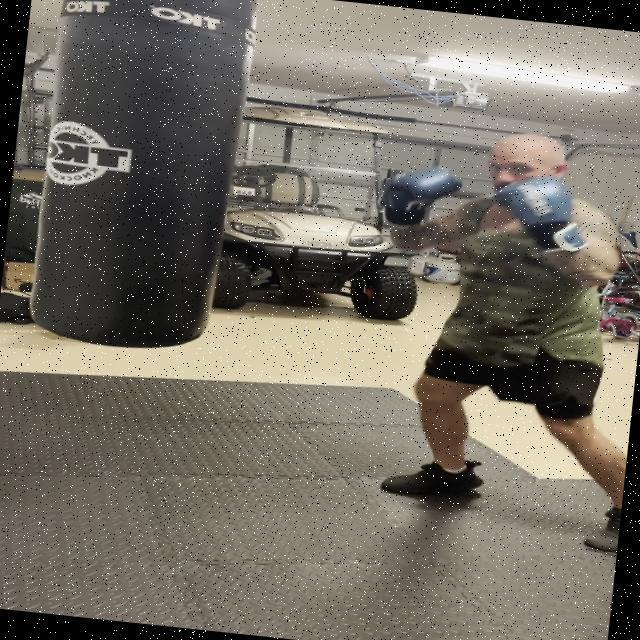no punch: (337, 107, 640, 544)
